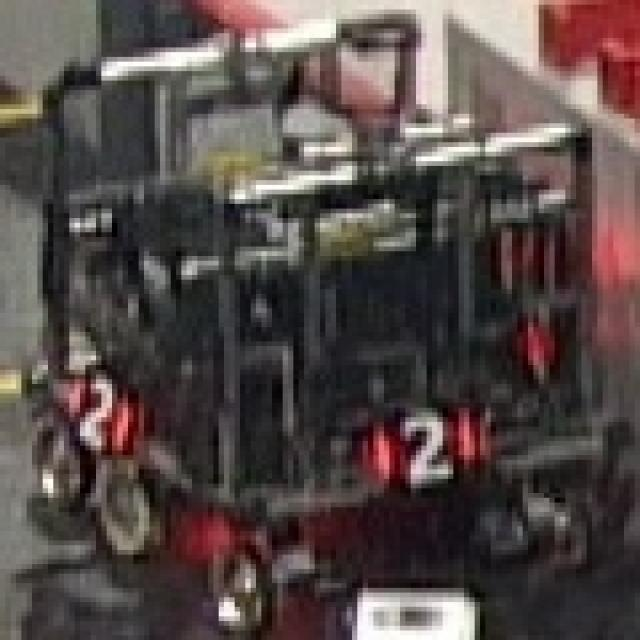R2: (368, 408, 485, 488), (59, 370, 144, 455)
